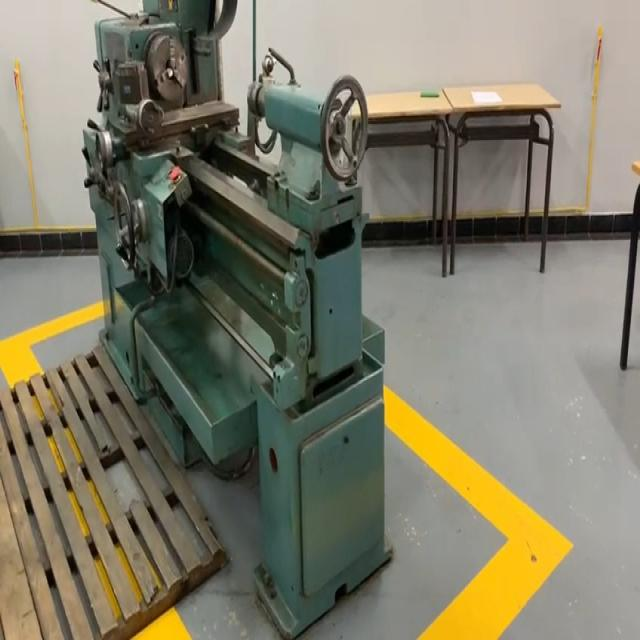tour parallele: (84, 0, 389, 640)
